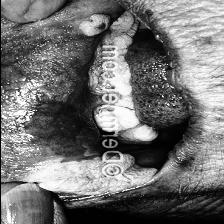Potentially Malignant Skin Tumors: (35, 158, 144, 196), (80, 14, 113, 36)
